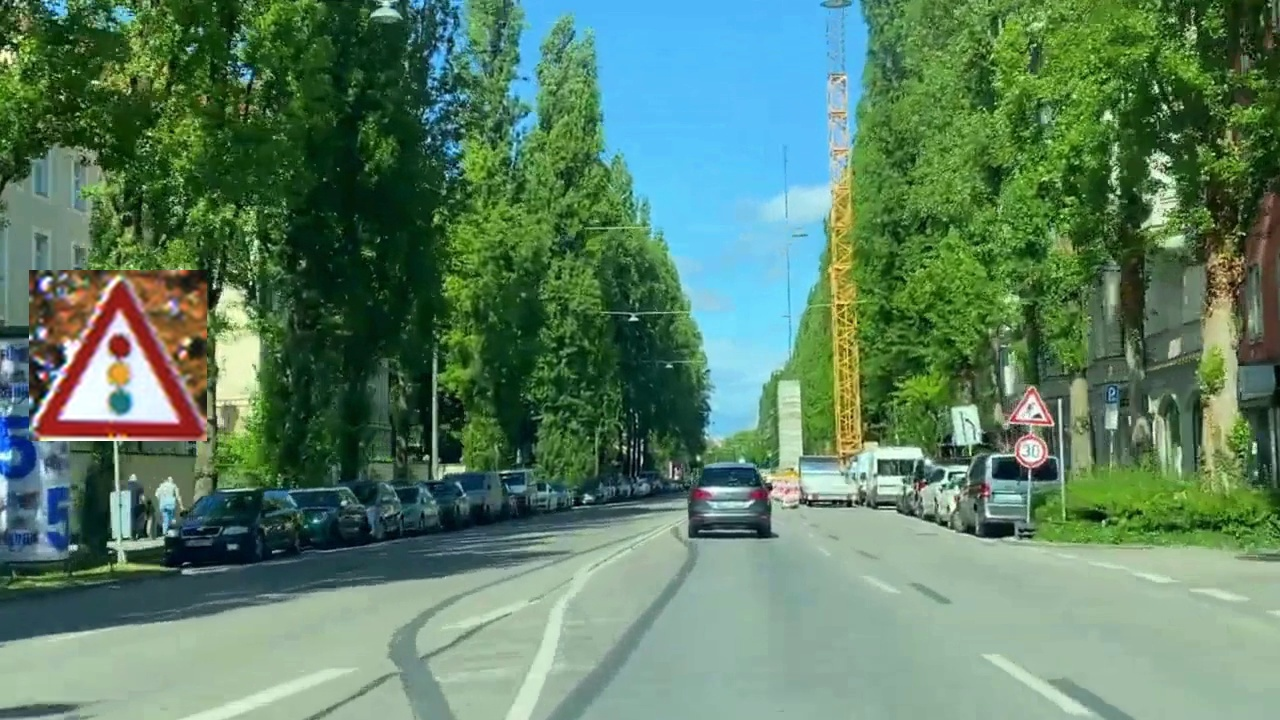Signals: (29, 270, 207, 441)
